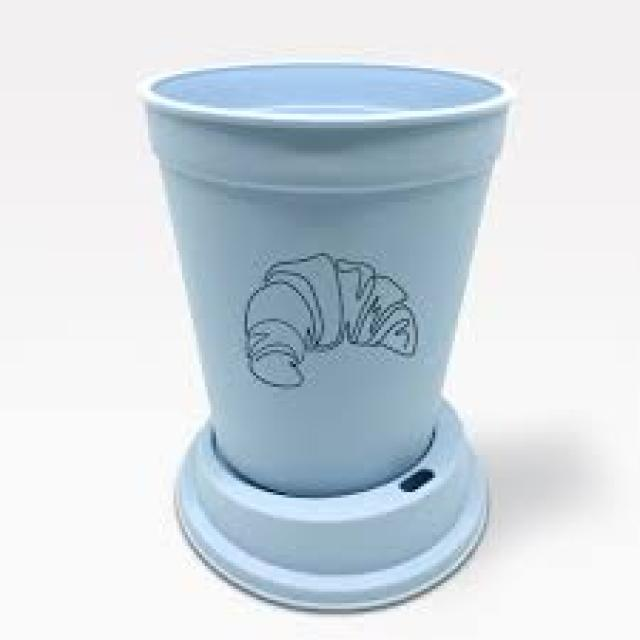bottle: (141, 61, 511, 496)
